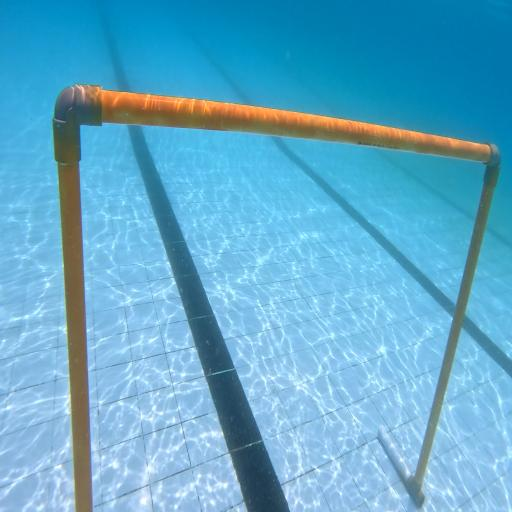gate: (53, 84, 500, 512)
